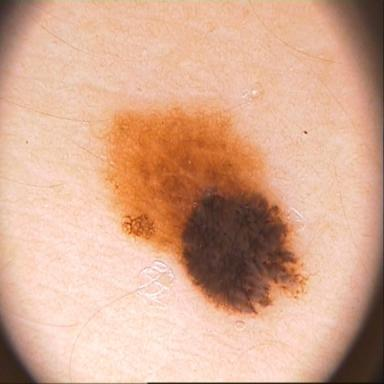nevus: (107, 109, 306, 316)
